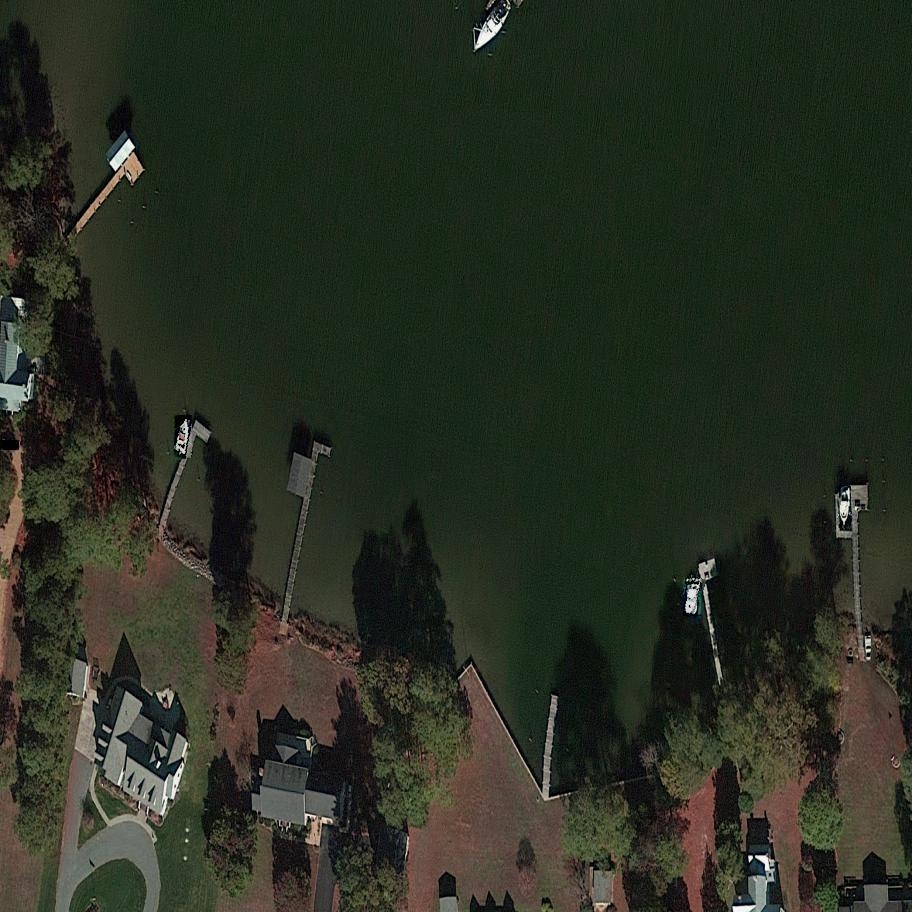ship: (173, 416, 193, 457), (684, 577, 702, 617), (838, 487, 851, 527), (0, 441, 19, 449)
